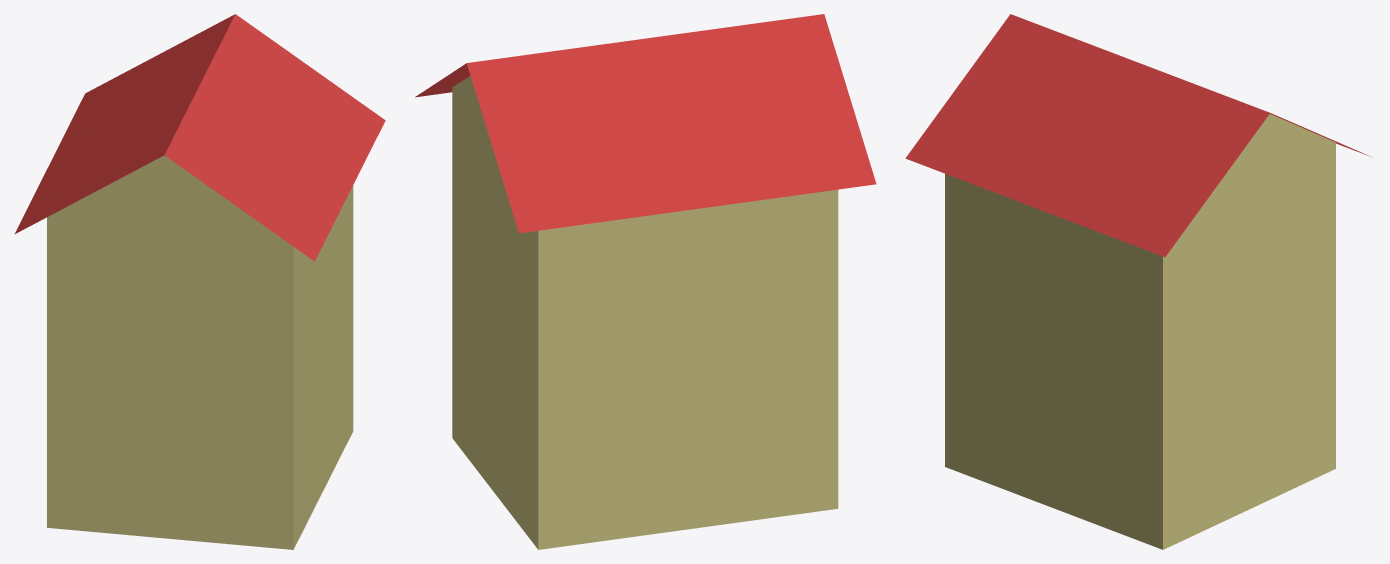
3 renders of one model, left to right at view 1: azimuth 30°, elevation 25°; view 2: azimuth 150°, elevation 25°; view 3: azimuth 270°, elevation 25°, orthographic. The views are drawn at different scales.
Size of the model in its own units: 8.32 by 8.36 by 7.94.
